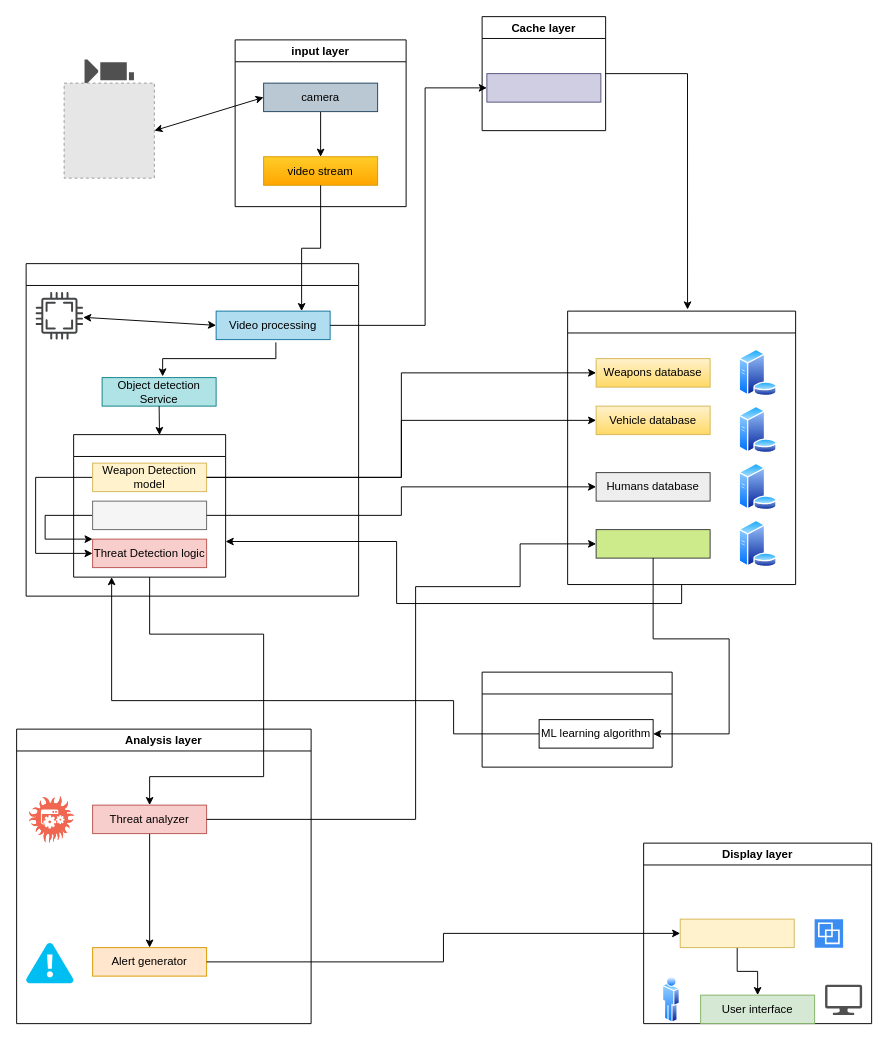
The diagram is 888 pixels wide and 1040 high, and some of its shapes have lost their labels. Grey dashed boxes stand in for pictures. Here are the shapes that lost their labels. From the top down, the box of each, then its label:
(486, 73, 601, 102): Frame cache
(25, 263, 359, 596): Processing layer
(567, 310, 796, 585): database layer
(73, 434, 226, 577): Detection engine
(92, 500, 207, 530): Person detection model
(595, 529, 710, 558): verified detections
(481, 671, 672, 767): ML layer
(679, 918, 794, 948): Overlay Manager
